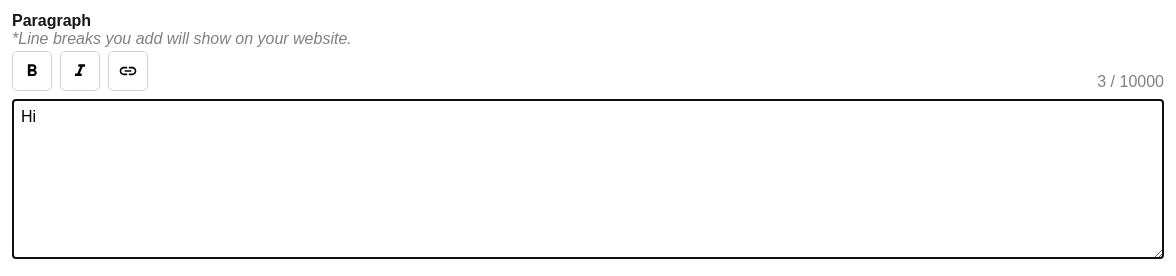
Test: ParagraphField formatting › starts bold at the cursor, so what is typed next is bold, and removes it on a second click
Click the button named "Bold text in paragraph 1" at [32, 71], box 12,51 -> 52,91
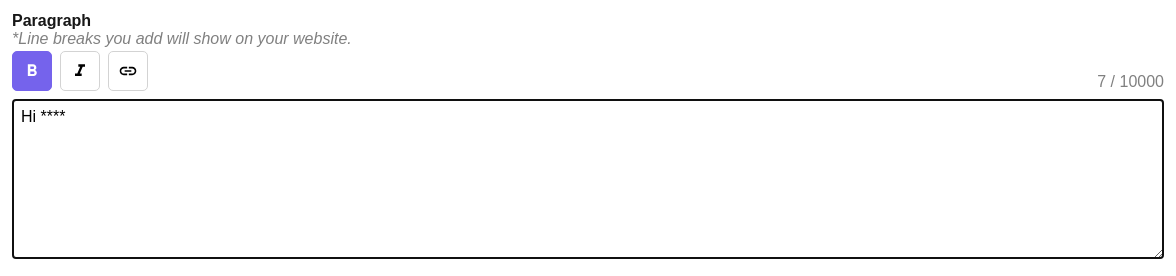
Check: the text box labelled "Paragraph" holds "Hi ****", box 12,99 -> 1164,259
Type keys "bold"
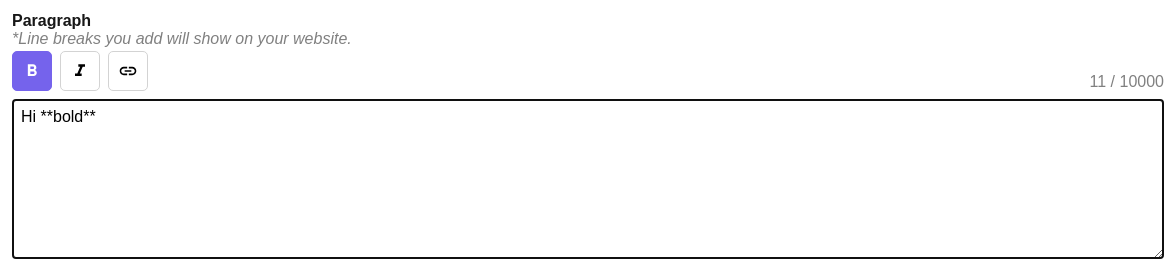
Check: the text box labelled "Paragraph" holds "Hi **bold**", box 12,99 -> 1164,259
Click the button named "Bold text in paragraph 1" at [32, 71], box 12,51 -> 52,91
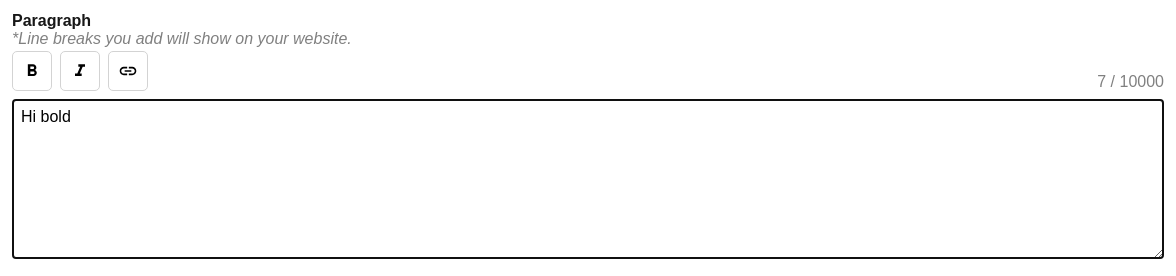
Check: the text box labelled "Paragraph" holds "Hi bold", box 12,99 -> 1164,259
